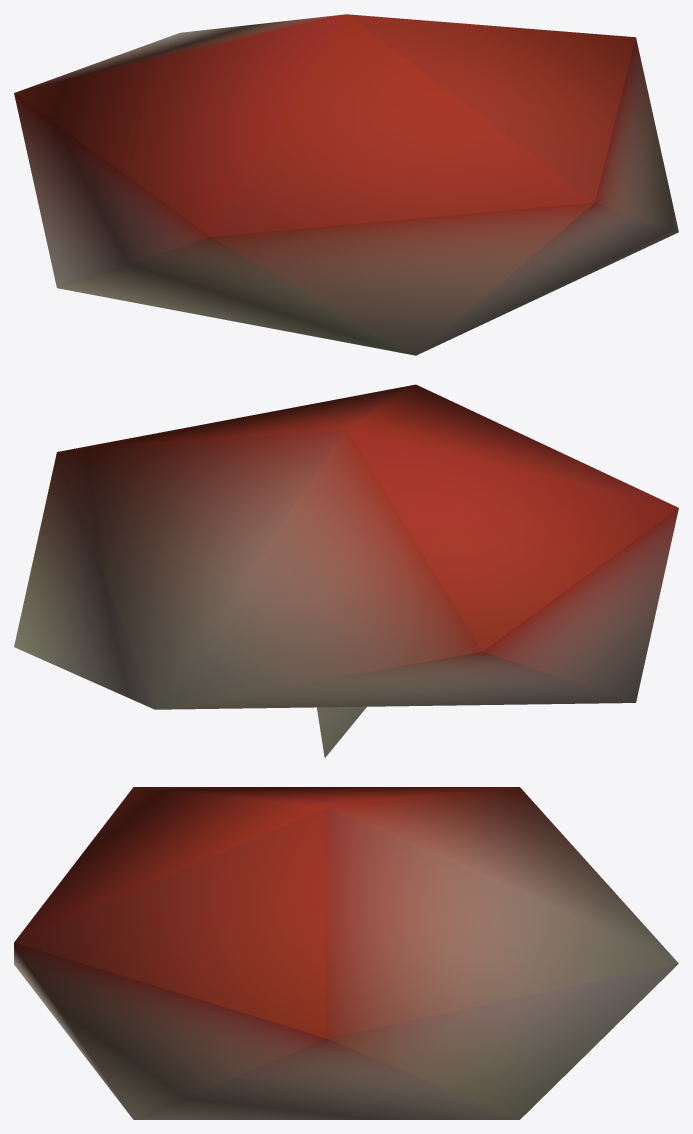
File: mushroom_bk_foret_broceliande_0003.glb
3 renders of one model, top to bottom at view 1: azimuth 30°, elevation 25°; view 2: azimuth 150°, elevation 25°; view 3: azimuth 270°, elevation 25°, orthographic.
Parts seen in each view (by area): view 1: mushroom_bk_003; view 2: mushroom_bk_003; view 3: mushroom_bk_003.
Part boxes in pixels (<box>): mushroom_bk_003: <box>14,14,678,355</box>; mushroom_bk_003: <box>14,384,678,757</box>; mushroom_bk_003: <box>14,787,678,1119</box>.
Size of the model in its own units: 0.8002 by 0.4 by 0.8091.
